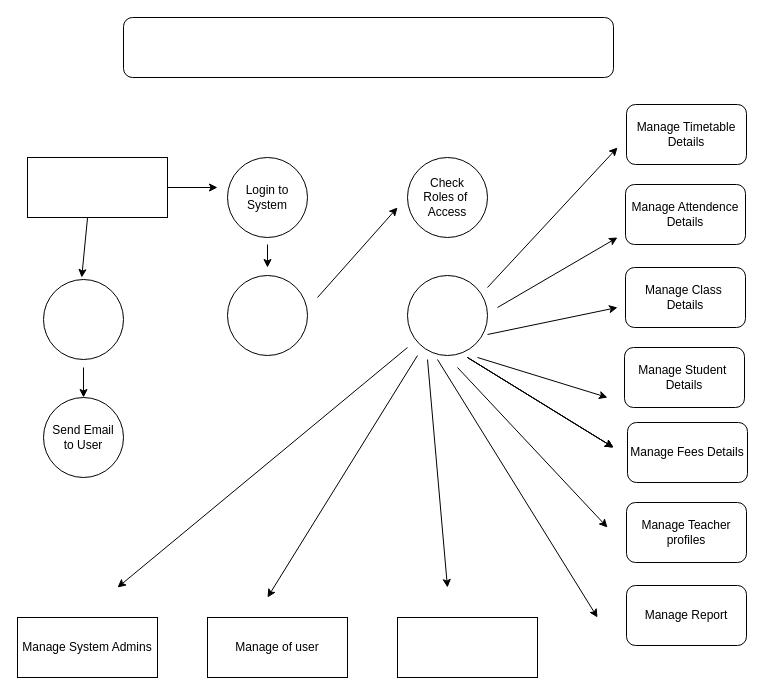
Some shapes in this 765 by 695 pixel diagram are drawn without their labels. The shapes that lost their labels are listed below. From the top down, each one's centre as x and y in pixels, then its label:
At point (368, 47): "Student Information System".
At point (97, 187): "Admin".
At point (83, 319): "Forgot Password".
At point (267, 315): "Check credentials".
At point (447, 315): "Manage Modules".
